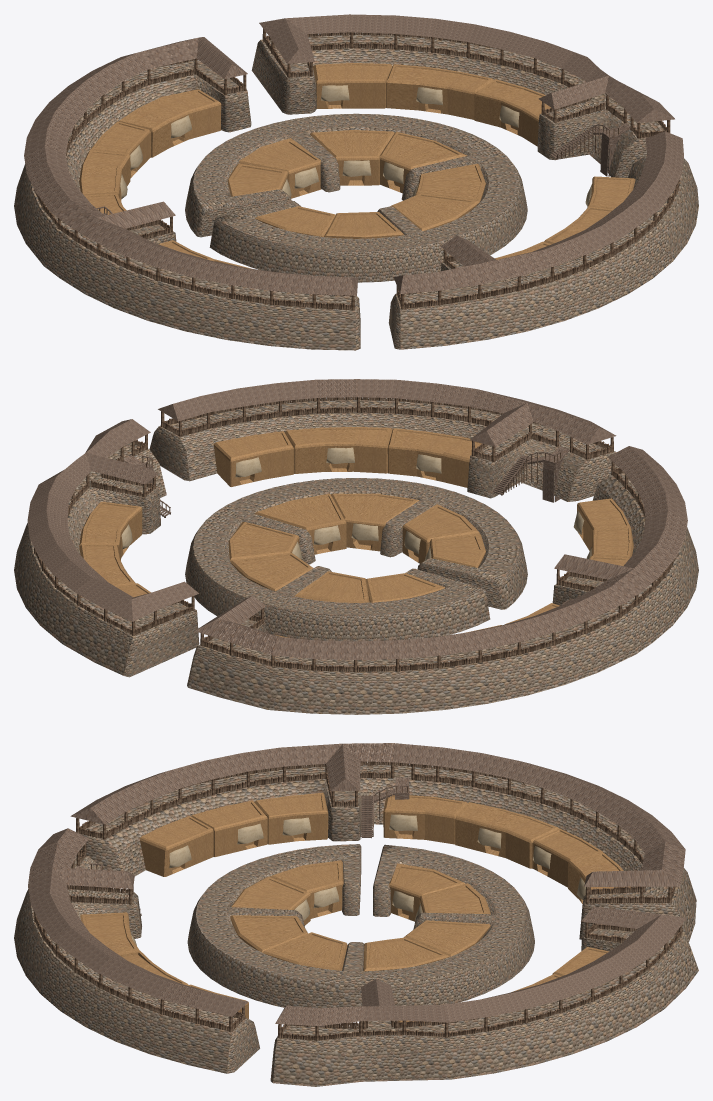
Rendered from ArkhaimWalls_.fbx.
3 views of the same model, one above another, from view 1: azimuth 30°, elevation 25°; view 2: azimuth 150°, elevation 25°; view 3: azimuth 270°, elevation 25° (orthographic).
Parts seen in each view (by area): view 1: Outer_Walls, Roof, InnerWalls, Cube.006, Cube.007, Cube.005, Cube.029, Cube.008, Cube.004, Cube.002, Cube.003, Stairs.003; view 2: Outer_Walls, Roof, InnerWalls, Cube.008, Cube.029, Cube.004, Cube.006, Cube.007, Stairs.001, Cube.005, Cube.003, Cube.002; view 3: Outer_Walls, Roof, InnerWalls, Cube.008, Cube.002, Cube.007, Cube.029, Cube.006, Cube.003, Cube.004, Cube.005, Stairs.002.
Boxes of the visible parts, x1=… form: Outer_Walls: x1=14, y1=33, x2=698, y2=350; Roof: x1=24, y1=14, x2=683, y2=295; InnerWalls: x1=185, y1=113, x2=527, y2=282; Cube.006: x1=310, y1=130, x2=394, y2=185; Cube.007: x1=379, y1=131, x2=466, y2=193; Cube.005: x1=239, y1=138, x2=321, y2=198; Cube.029: x1=390, y1=193, x2=479, y2=231; Cube.008: x1=415, y1=163, x2=485, y2=201; Cube.004: x1=324, y1=212, x2=404, y2=238; Cube.002: x1=255, y1=206, x2=335, y2=236; Cube.003: x1=227, y1=163, x2=288, y2=196; Stairs.003: x1=550, y1=122, x2=630, y2=176; Outer_Walls: x1=14, y1=399, x2=698, y2=714; Roof: x1=27, y1=379, x2=687, y2=659; InnerWalls: x1=185, y1=478, x2=527, y2=641; Cube.008: x1=255, y1=493, x2=346, y2=554; Cube.029: x1=331, y1=493, x2=419, y2=551; Cube.004: x1=402, y1=504, x2=479, y2=563; Cube.006: x1=230, y1=553, x2=313, y2=591; Cube.007: x1=228, y1=522, x2=299, y2=560; Stairs.001: x1=492, y1=446, x2=569, y2=502; Cube.005: x1=294, y1=571, x2=369, y2=602; Cube.003: x1=365, y1=573, x2=444, y2=602; Cube.002: x1=429, y1=534, x2=485, y2=567; Outer_Walls: x1=14, y1=764, x2=698, y2=1086; Roof: x1=28, y1=743, x2=686, y2=1026; InnerWalls: x1=187, y1=844, x2=534, y2=1007; Cube.008: x1=262, y1=932, x2=347, y2=970; Cube.002: x1=269, y1=860, x2=343, y2=918; Cube.007: x1=363, y1=937, x2=449, y2=971; Cube.029: x1=230, y1=915, x2=307, y2=952; Cube.006: x1=404, y1=920, x2=490, y2=956; Cube.003: x1=389, y1=863, x2=464, y2=921; Cube.004: x1=231, y1=876, x2=310, y2=925; Cube.005: x1=419, y1=883, x2=490, y2=914; Stairs.002: x1=361, y1=777, x2=409, y2=838.
Size of the model in its own units: 12777 by 1482 by 12658.
